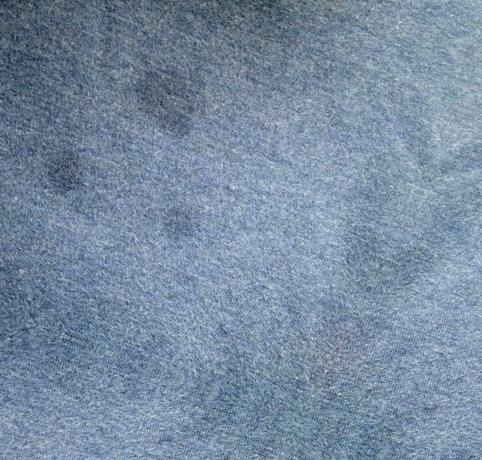stain: (136, 61, 213, 142), (30, 137, 102, 203), (158, 196, 213, 250)
